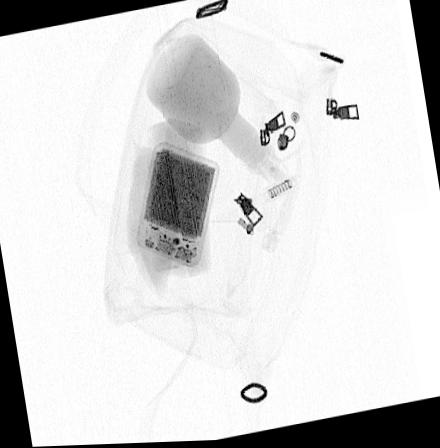Powerbank: (134, 142, 219, 270)
